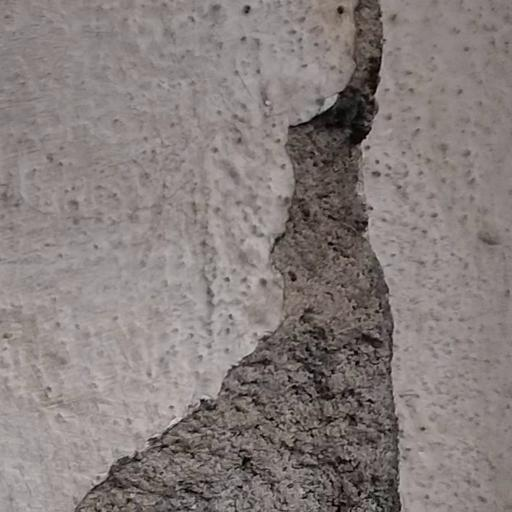spalling: (65, 0, 429, 511)
